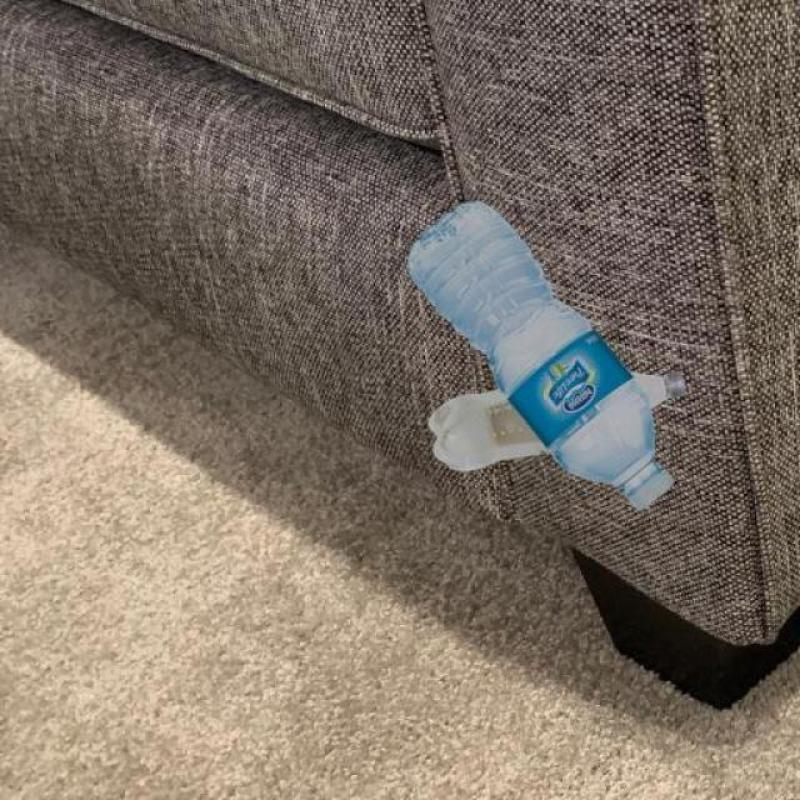botella: (406, 197, 676, 515), (428, 364, 686, 474)
